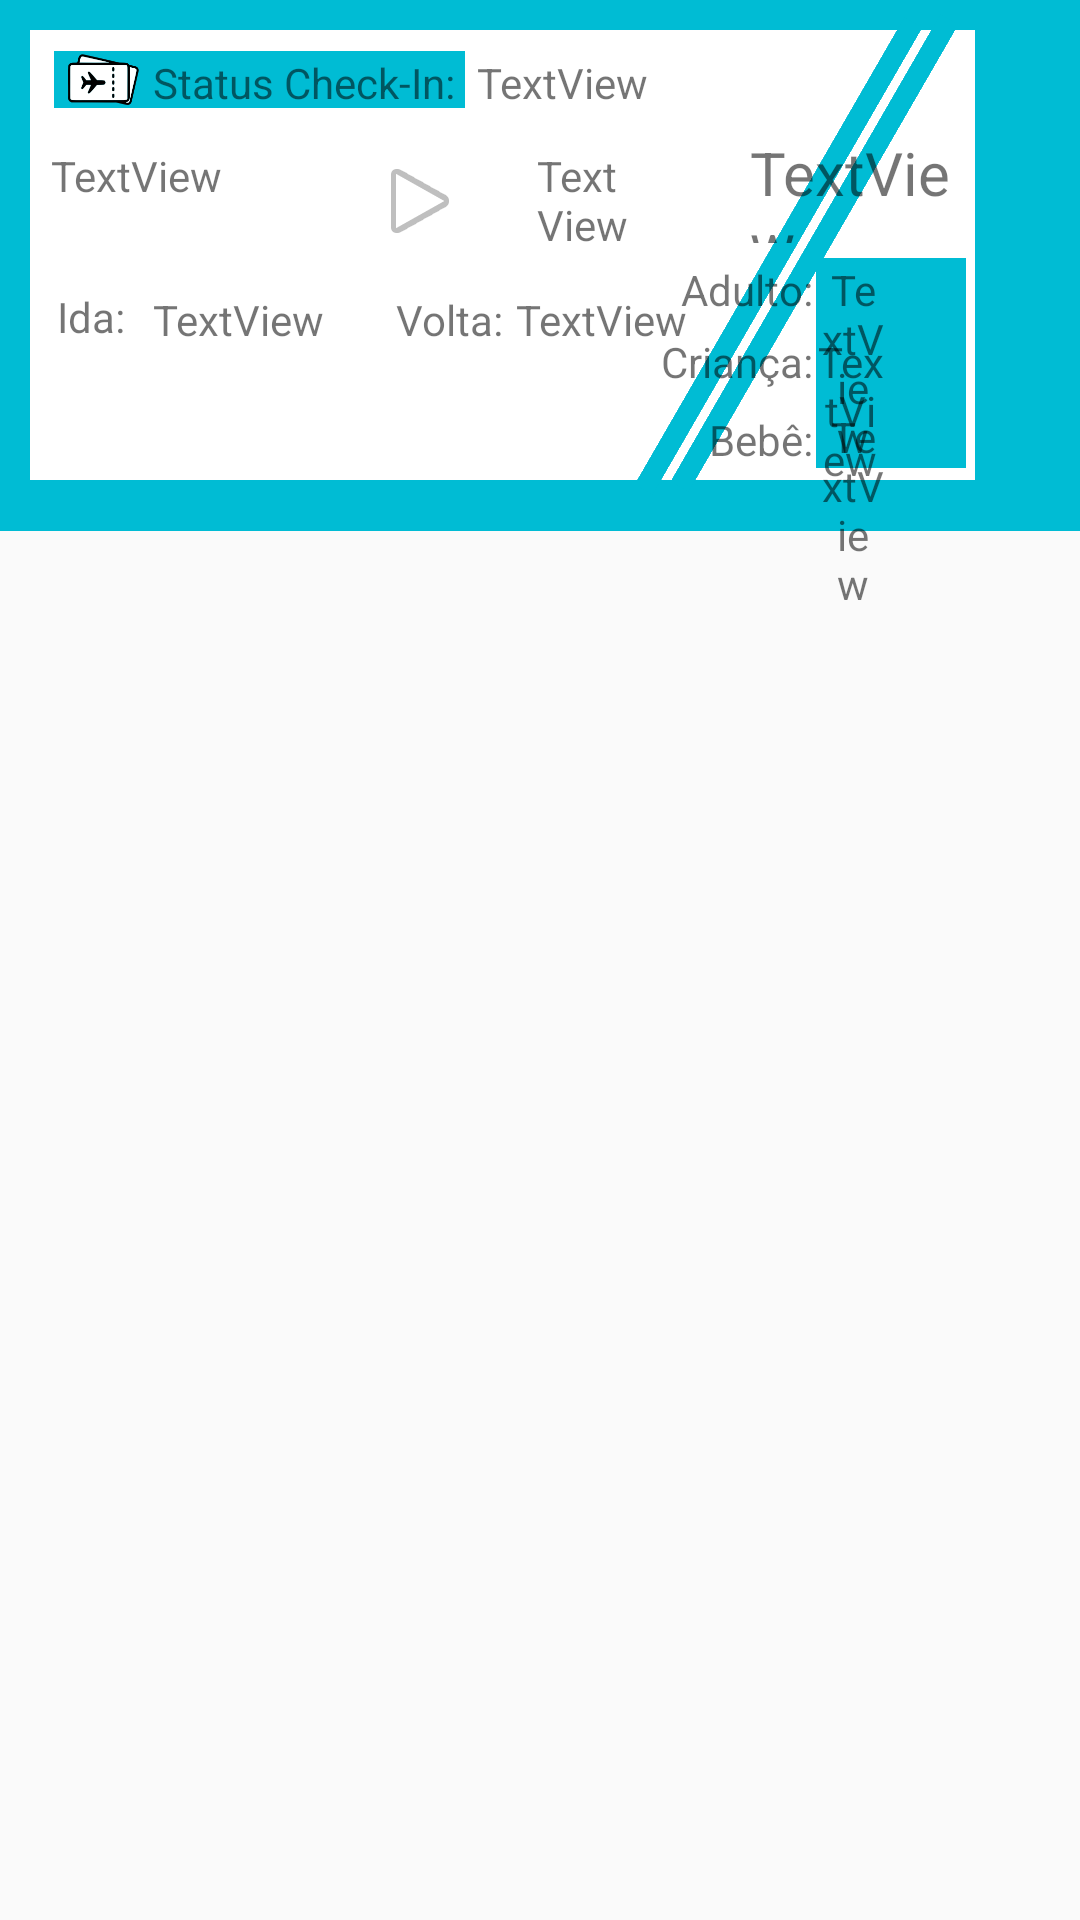

Screen size 1080 × 1920. Icon name, then its center in pixels as (x=x, y=y):
cartao de embarque: (x=103, y=79)
play: (x=420, y=201)
